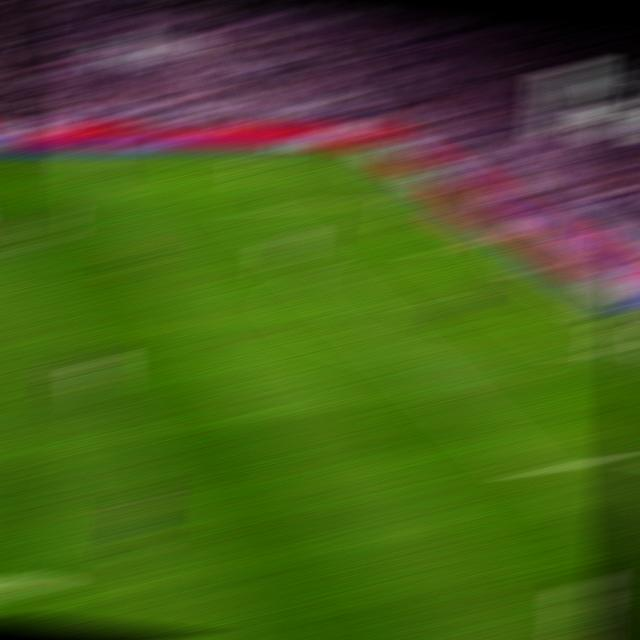bigarea_bottom_inner: (508, 459, 545, 481)
bigarea_top_inner: (231, 204, 262, 214)
bigarea_top_outter: (406, 191, 437, 200)
bottom_arc_area_intersection: (386, 346, 421, 364)
corner: (335, 145, 371, 155)
smallarea_bottom_inner: (561, 346, 595, 360)
smallarea_top_inner: (418, 245, 448, 252)
top_arc_area_intersection: (293, 262, 325, 274)
